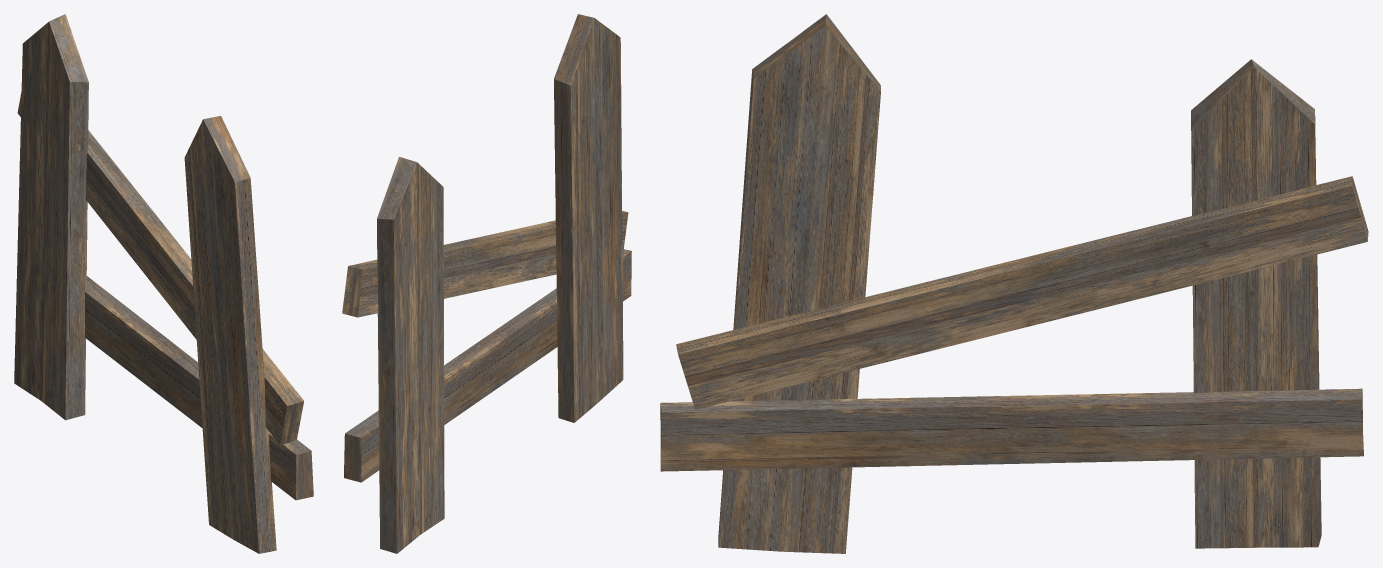
Rendered from Fence002.fbx.
3 views of the same model, side by side, from view 1: azimuth 30°, elevation 25°; view 2: azimuth 150°, elevation 25°; view 3: azimuth 270°, elevation 25° (orthographic). The views are drawn at different scales.
Visible parts, largest first — view 1: fence post.014, fence post.009, Cube.008, Cube.009; view 2: fence post.014, fence post.009, Cube.009, Cube.008; view 3: Cube.009, fence post.014, Cube.008, fence post.009.
Part boxes in pixels (x1,y1,x2,y2): fence post.014: [184, 116, 276, 553]; fence post.009: [14, 14, 88, 420]; Cube.008: [17, 91, 303, 445]; Cube.009: [85, 276, 313, 500]; fence post.014: [554, 14, 623, 422]; fence post.009: [377, 156, 444, 553]; Cube.009: [344, 249, 631, 482]; Cube.008: [342, 211, 628, 317]; Cube.009: [660, 388, 1363, 471]; fence post.014: [718, 14, 880, 553]; Cube.008: [676, 176, 1368, 409]; fence post.009: [1191, 59, 1321, 548].
Bounding box in the file's own units: 104 × 904 × 1109.
